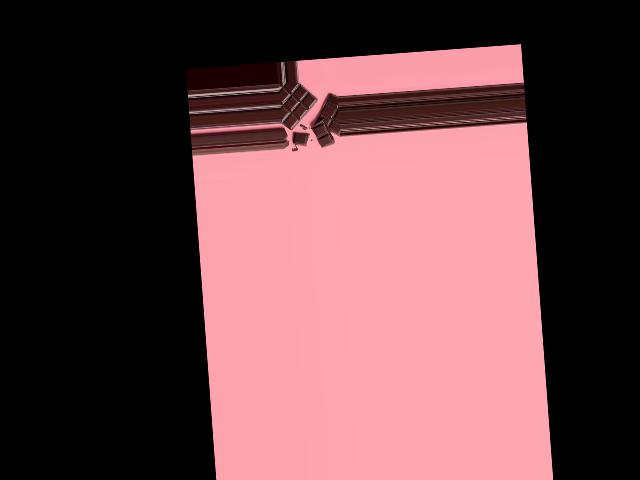chocolate: (278, 79, 337, 146)
